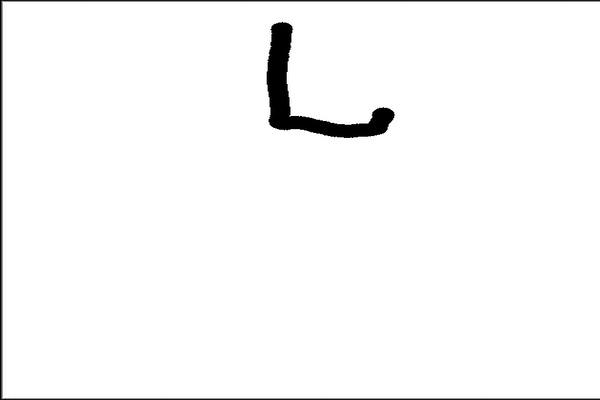L: (255, 13, 402, 145)
